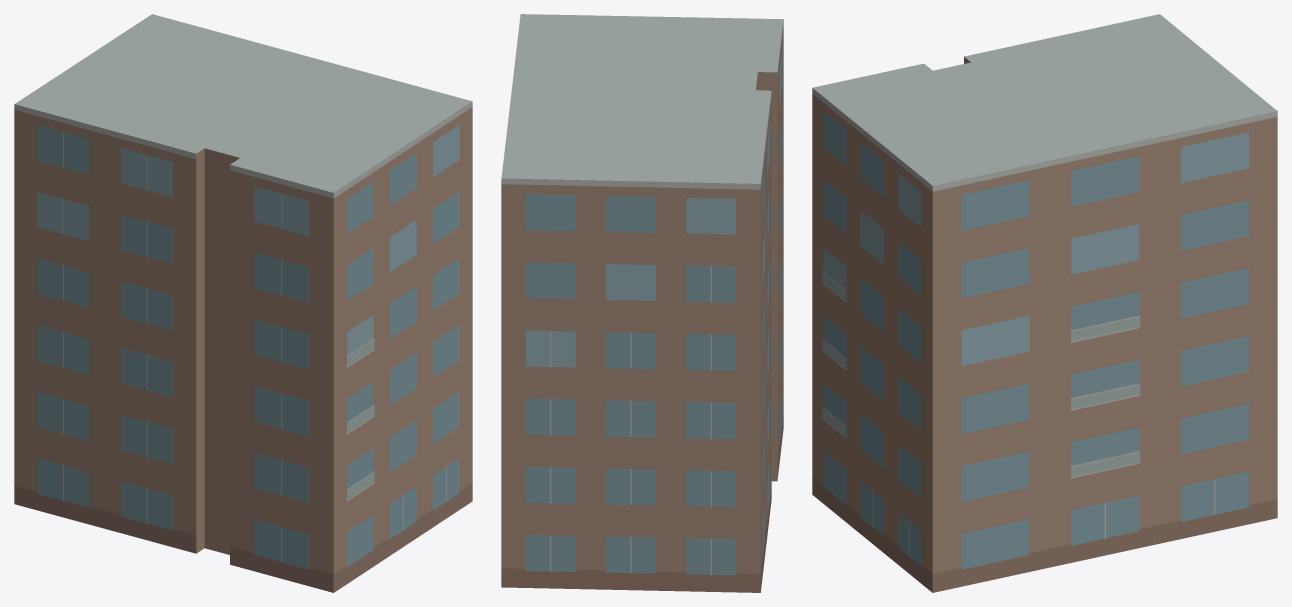
The model's file is survey-upis-32837300.glb.
3 views of the same model, side by side, from view 1: azimuth 30°, elevation 25°; view 2: azimuth 150°, elevation 25°; view 3: azimuth 270°, elevation 25° (orthographic). The views are drawn at different scales.
Parts seen in each view (by area): view 1: survey-upis-32837300.tmp; view 2: survey-upis-32837300.tmp; view 3: survey-upis-32837300.tmp.
Part boxes in pixels (x1,y1,x2,y2): survey-upis-32837300.tmp: (14,14,472,592); survey-upis-32837300.tmp: (501,14,783,592); survey-upis-32837300.tmp: (812,14,1277,592).
Bounding box in the file's own units: 15.78 × 17.4 × 18.04.
